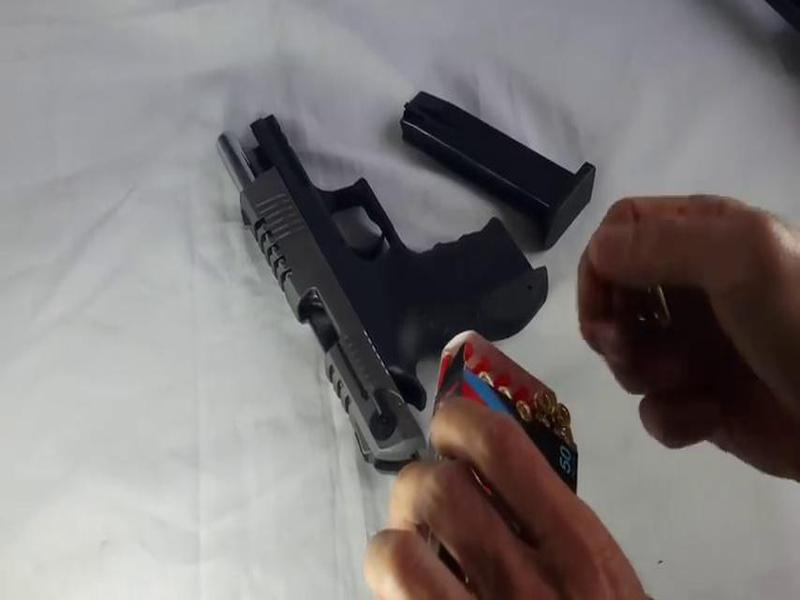Pistola: (212, 103, 564, 465)
